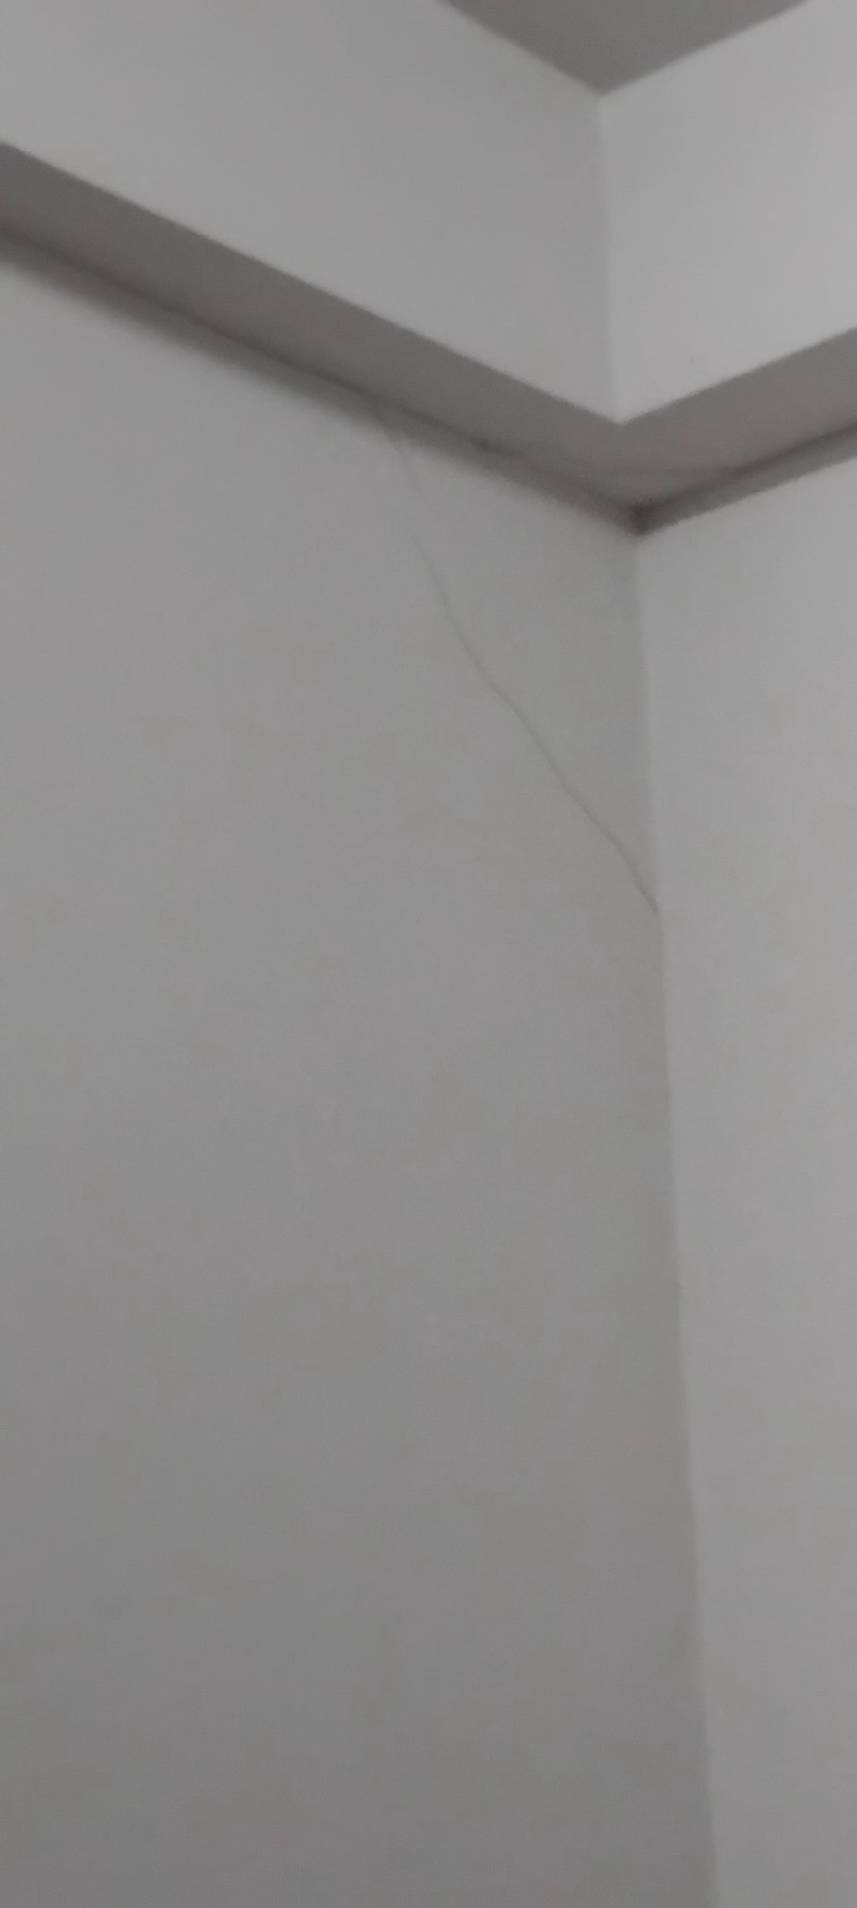Low: (310, 339, 771, 1018)
